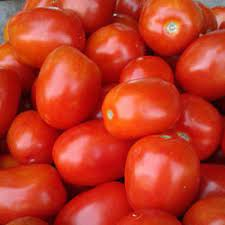tomato: (120, 126, 212, 215), (102, 77, 188, 139), (51, 119, 126, 183), (33, 47, 91, 124)
